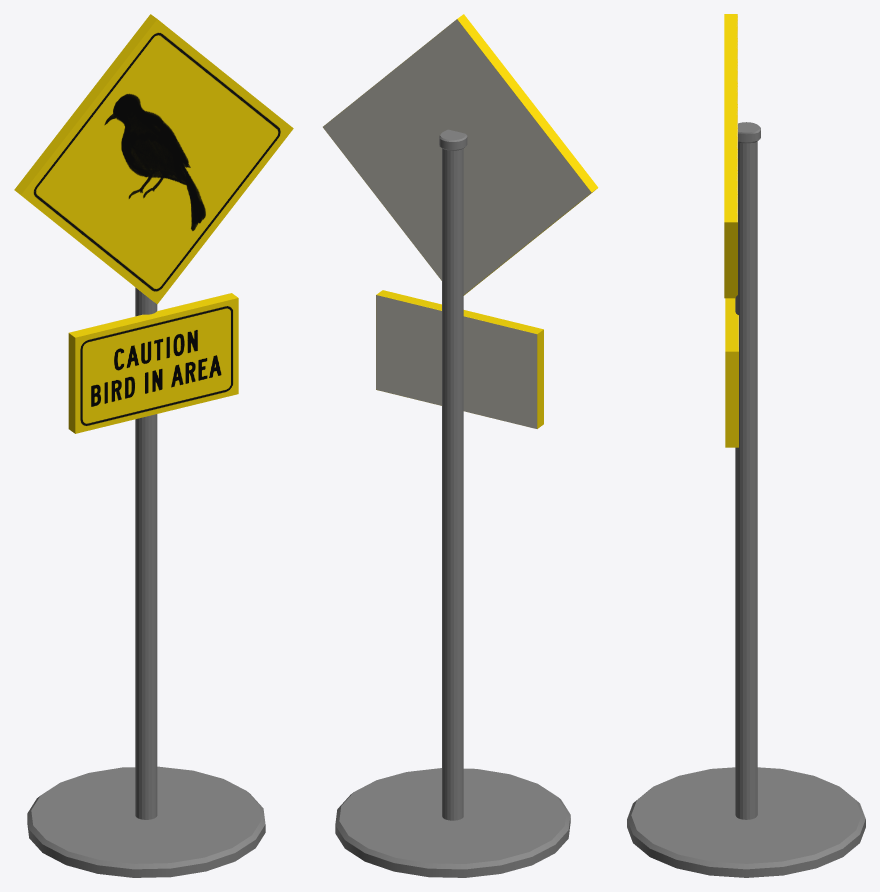
Rendered from bird_sign.fbx.
The picture shows the model from 3 angles, left to right: view 1: azimuth 30°, elevation 25°; view 2: azimuth 150°, elevation 25°; view 3: azimuth 270°, elevation 25°; orthographic projection.
Visible parts, largest first — view 1: bird_sign; view 2: bird_sign; view 3: bird_sign.
Boxes of the visible parts, box(x1,y1,x2,y2) form: bird_sign: box(14, 14, 293, 877); bird_sign: box(323, 14, 598, 877); bird_sign: box(627, 14, 865, 877).
Bounding box in the file's own units: 8.7 × 24.9 × 6.62.
